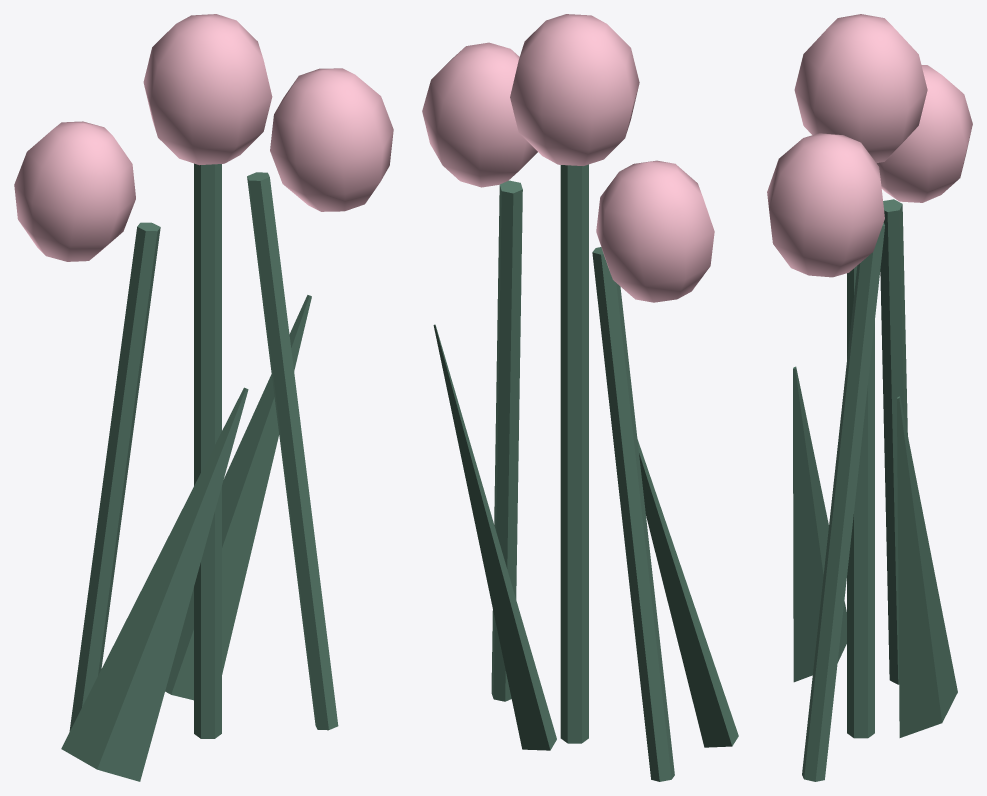
Rendered from tulip-cluster-pink.glb.
3 renders of one model, left to right at view 1: azimuth 30°, elevation 25°; view 2: azimuth 150°, elevation 25°; view 3: azimuth 270°, elevation 25°, orthographic.
Parts seen in each view (by area): view 1: tulip-cluster-pink; view 2: tulip-cluster-pink; view 3: tulip-cluster-pink.
Boxes of the visible parts, x1,y1,x2,y2 form: tulip-cluster-pink: [14, 14, 393, 781]; tulip-cluster-pink: [422, 14, 738, 781]; tulip-cluster-pink: [767, 14, 972, 781].
Size of the model in its own units: 0.2072 by 0.45 by 0.1175.
